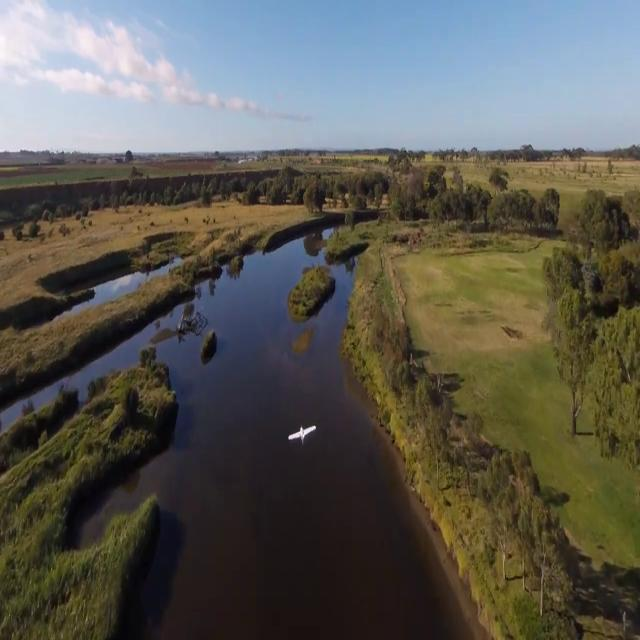iha: (286, 425, 316, 445)
